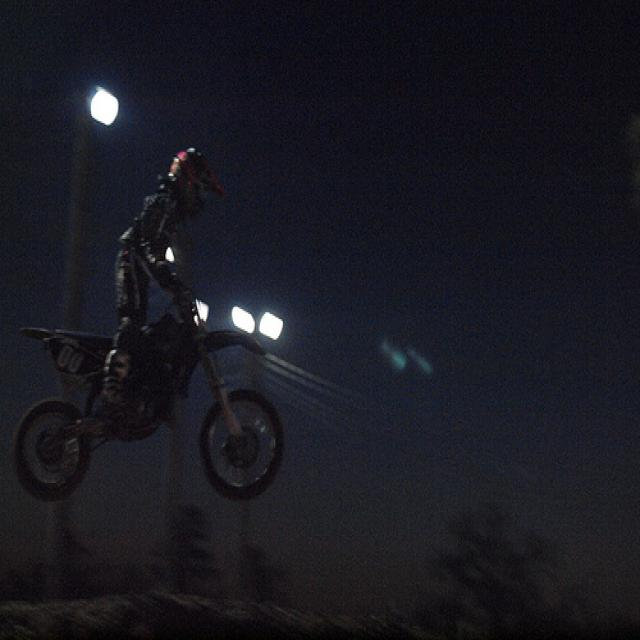Motorbike: (0, 301, 325, 523)
People: (108, 110, 203, 434)
